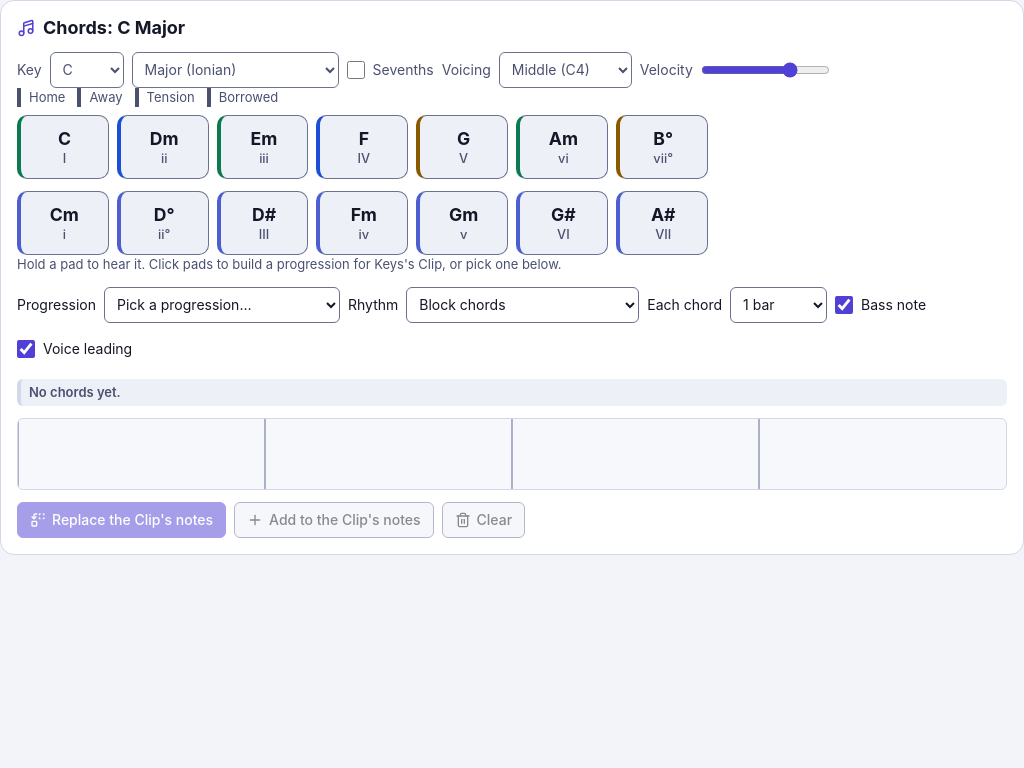
Test: a named progression fills the list
The width and height of the screenshot is (1024, 768).
Select "Jazz turnaround (ii–V–I)" in the dropdown labelled "Progression" at (222, 304), box [104,286,340,322]
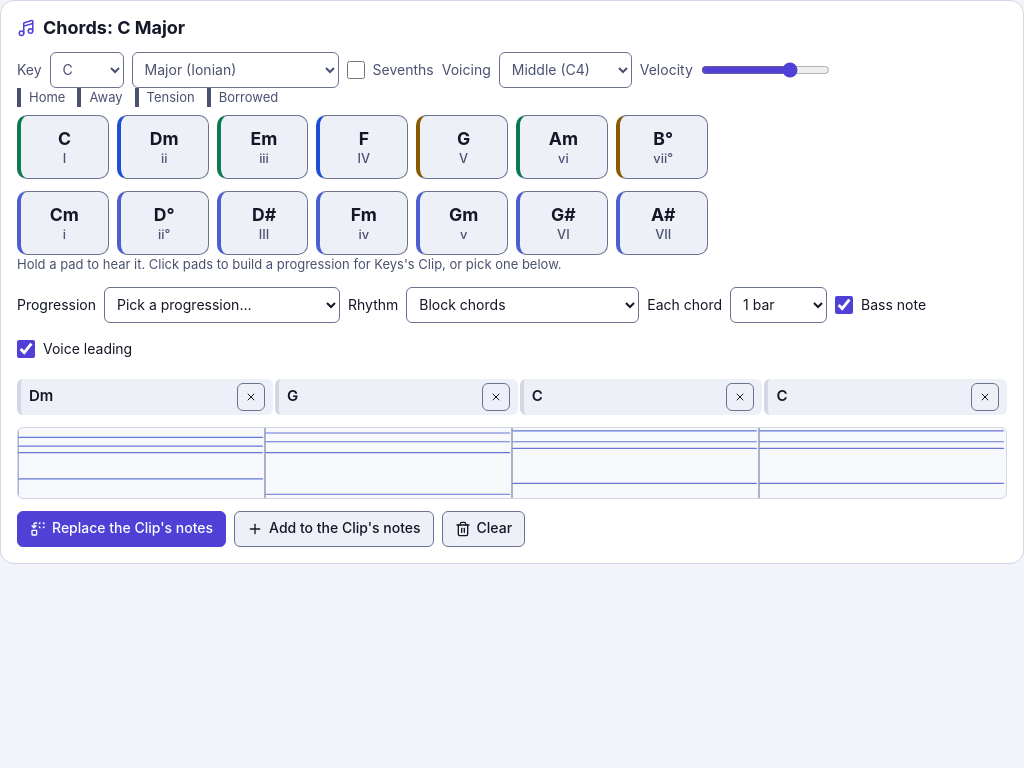
Expected: the list items read "Dm", "G", "C", "C", in this order, [17,378,273,414]; [275,378,518,414]; [520,378,762,414]; [764,378,1007,414]
Click the button named "Remove chord 4, C" at (985, 396), box [971,382,999,410]
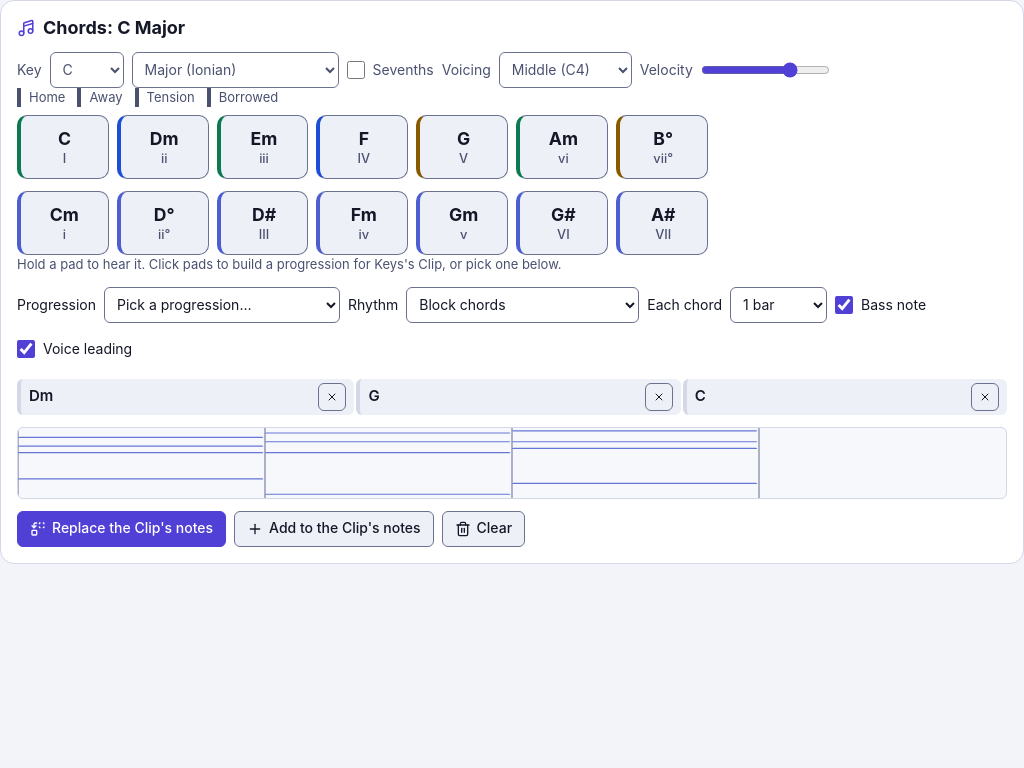
Expected: the number of list items is 3, [17,378,354,414]; [356,378,681,414]; [683,378,1007,414]
